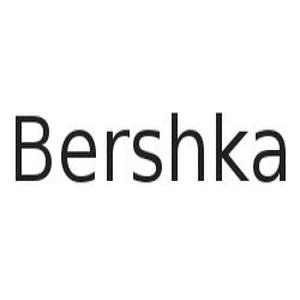bershka: (10, 113, 290, 187)
